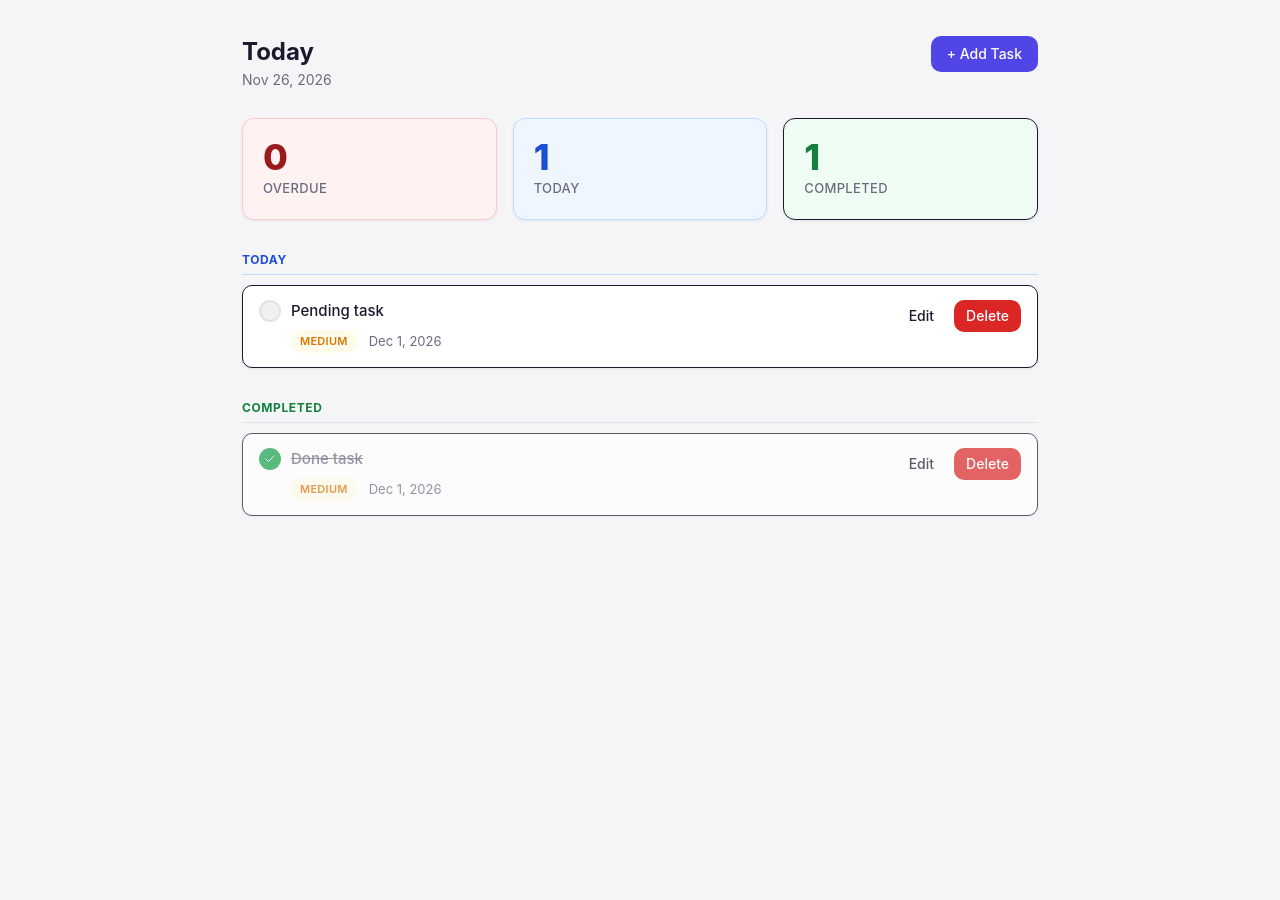
Test case: task write flows at the api boundary › creates a task from the New Task modal via the create api and reloads
Check: the text "Pending task" is shown, box [291,300,384,322]
Click the button "+ Add Task" at (984, 54), box [931,36,1038,72]
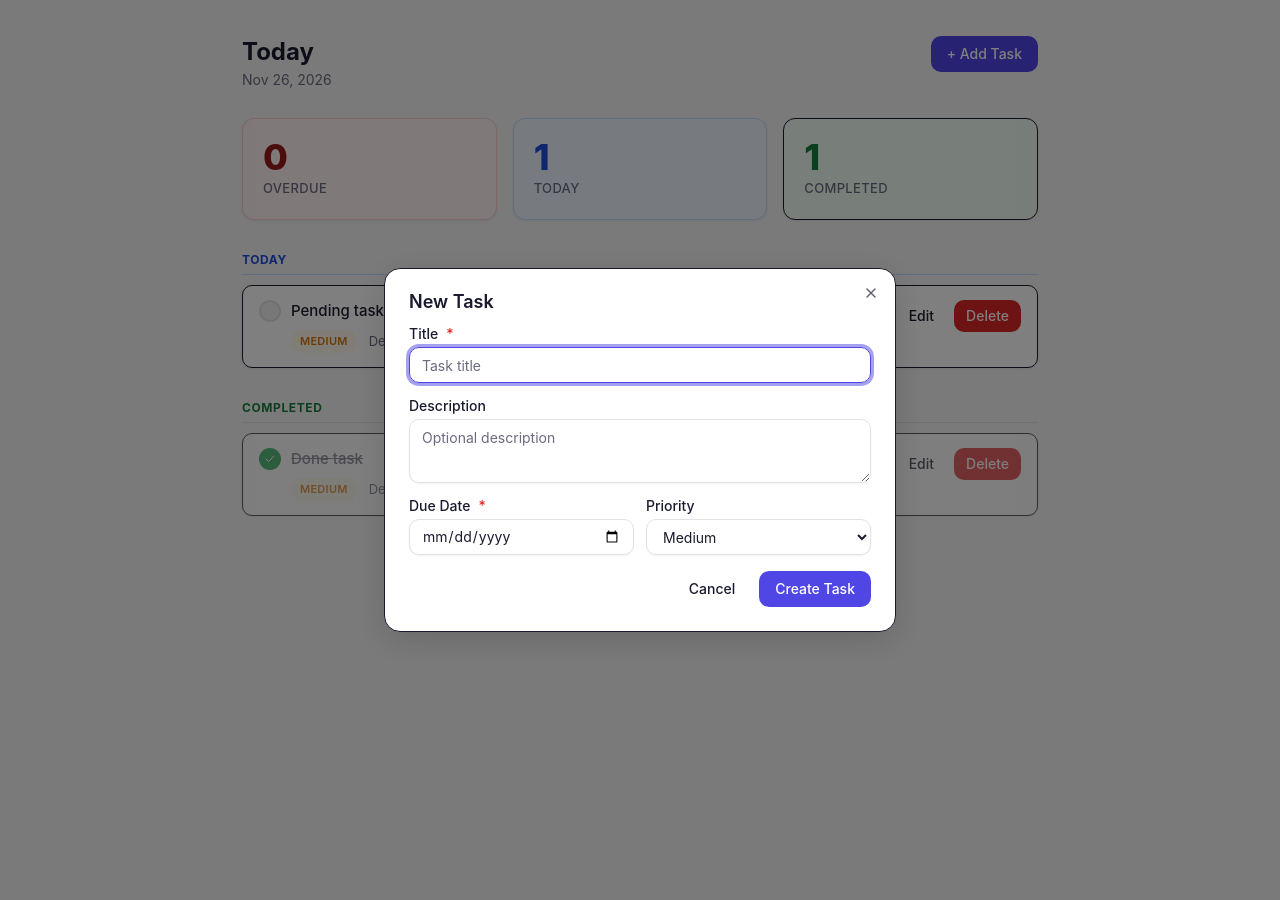
Check: the heading "New Task" is shown, box [409,291,494,312]
Type "Buy milk" into the field labelled "Title *" at (640, 365), box [409,347,871,383]
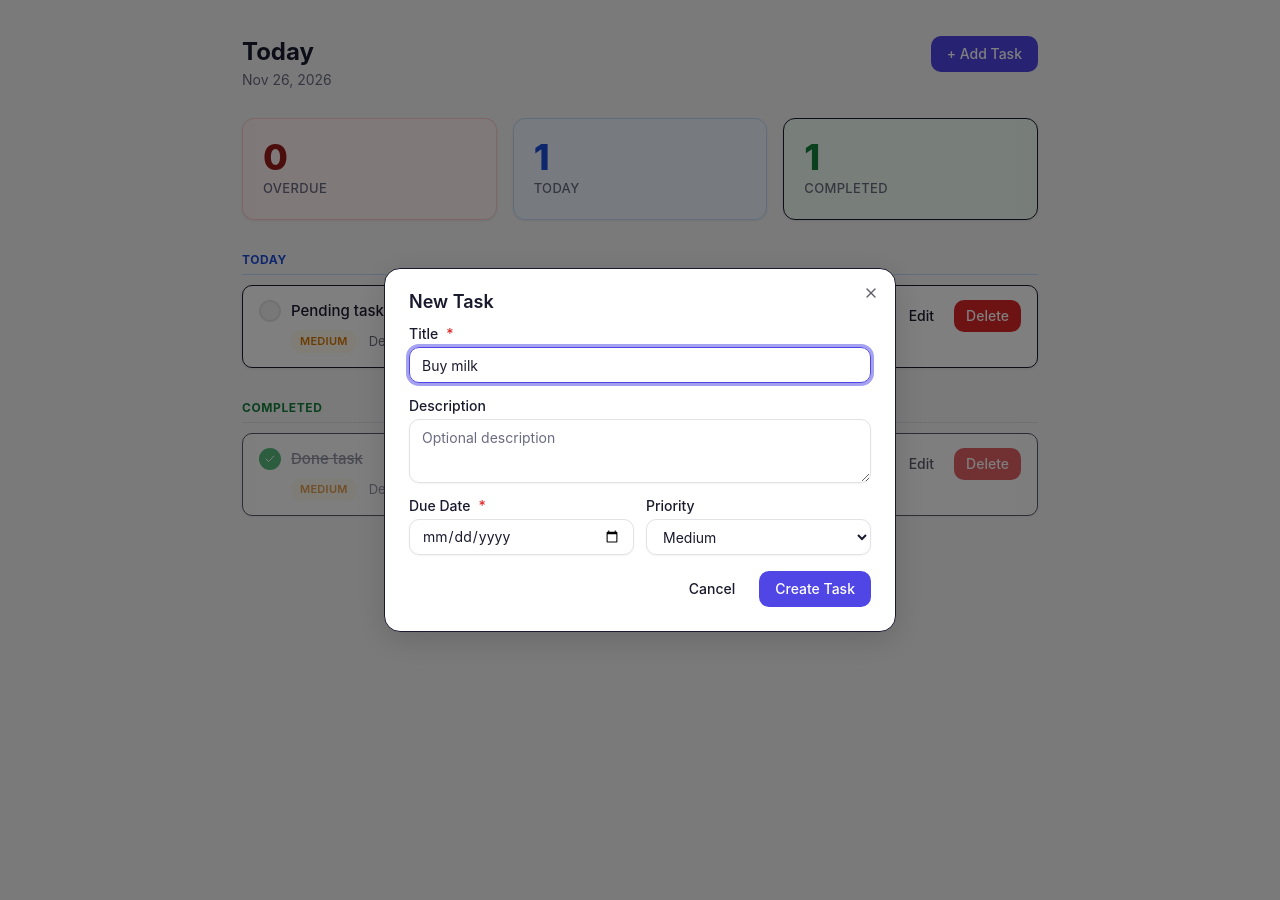
Type "2026-12-01" into the date field labelled "Due Date *" at (522, 537), box [409,519,634,555]
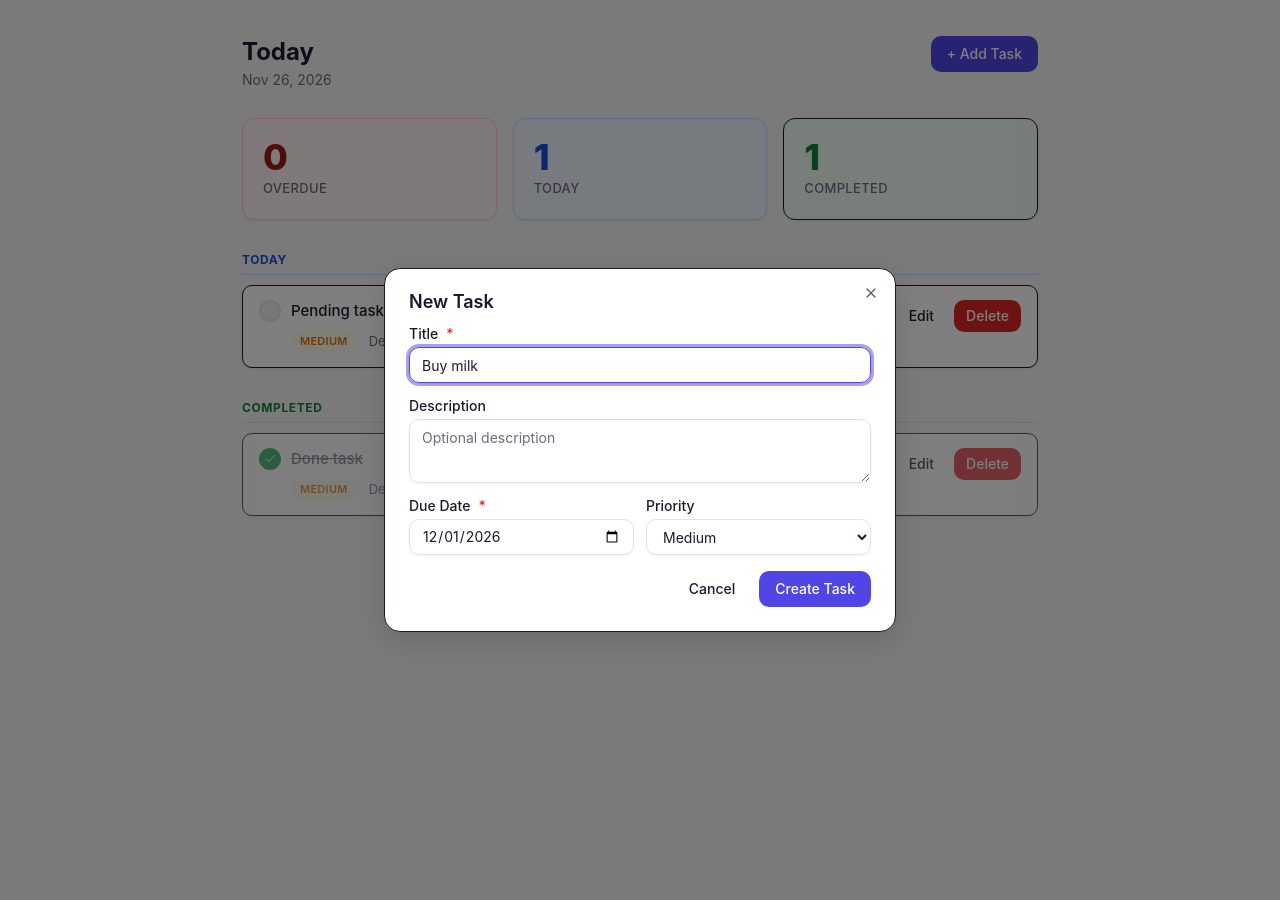
Select "High" in the dropdown labelled "Priority" at (758, 537), box [646,519,871,555]
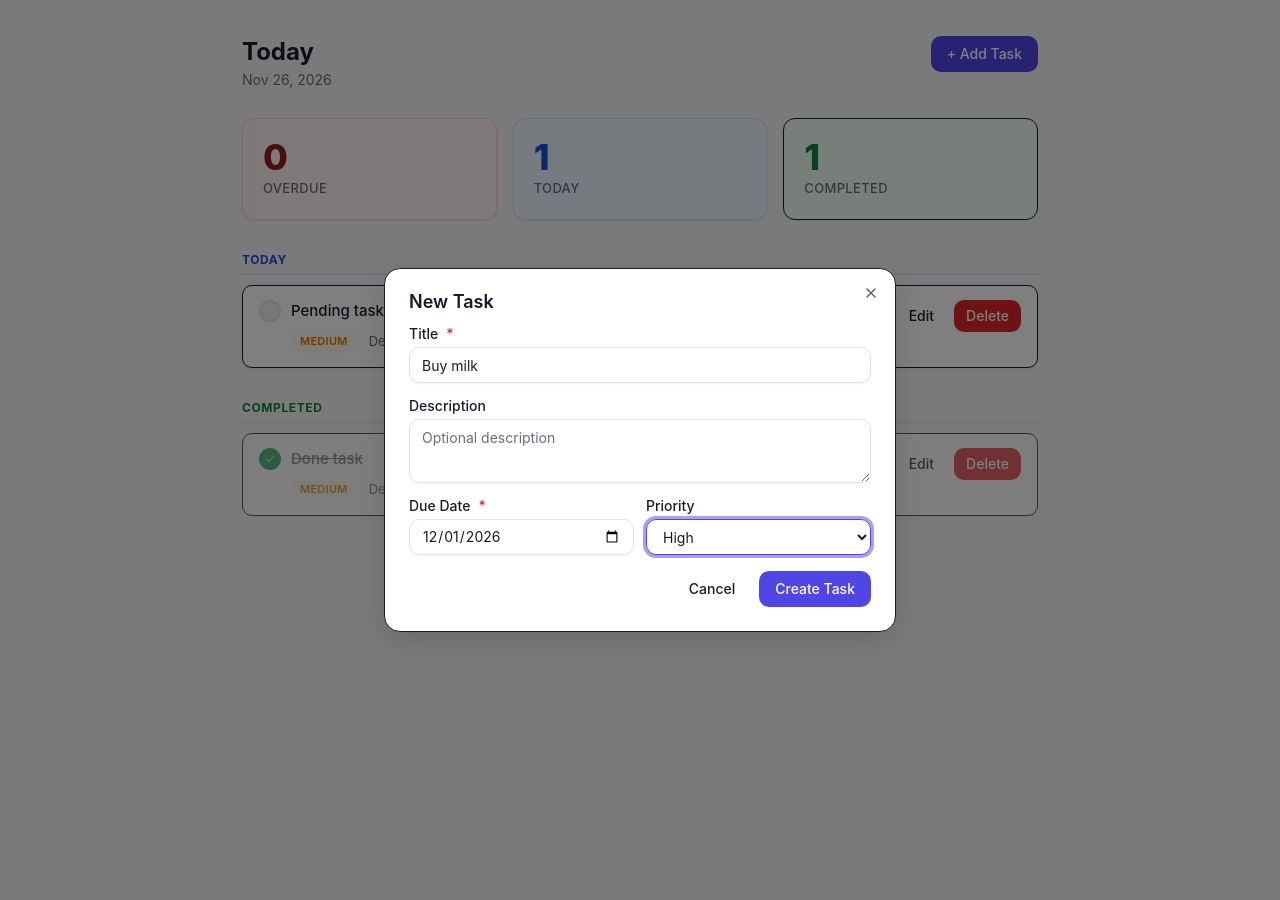
Click the button "Create Task" at (815, 589), box [759,571,871,607]
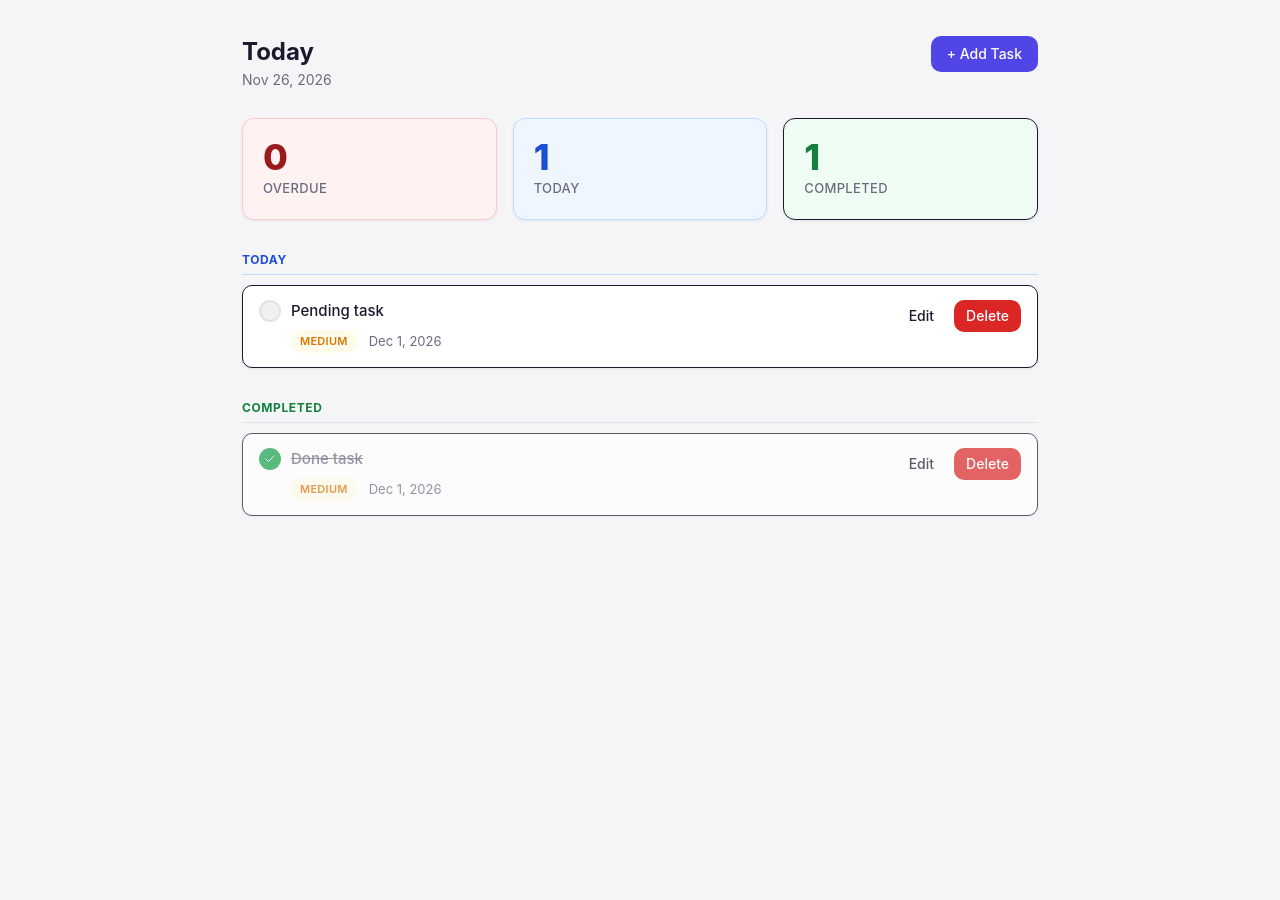
Check: the dialog is gone
